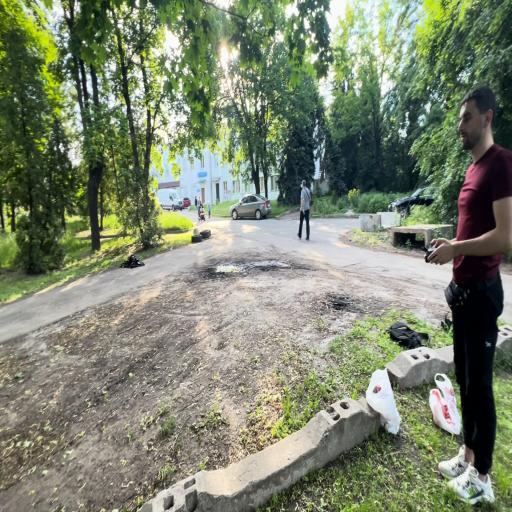drone: (120, 254, 145, 269)
